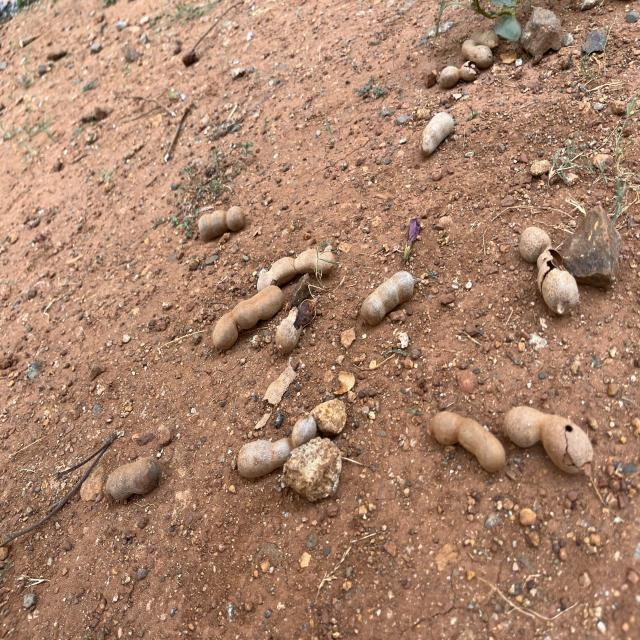tamarind: (504, 404, 594, 474), (239, 411, 315, 482), (520, 226, 578, 312), (213, 284, 285, 349), (431, 413, 506, 473), (256, 244, 336, 290), (360, 270, 416, 329), (275, 297, 320, 355), (106, 456, 161, 498), (199, 204, 247, 243), (421, 109, 456, 154), (439, 59, 475, 87), (460, 41, 492, 68), (470, 24, 498, 50)
